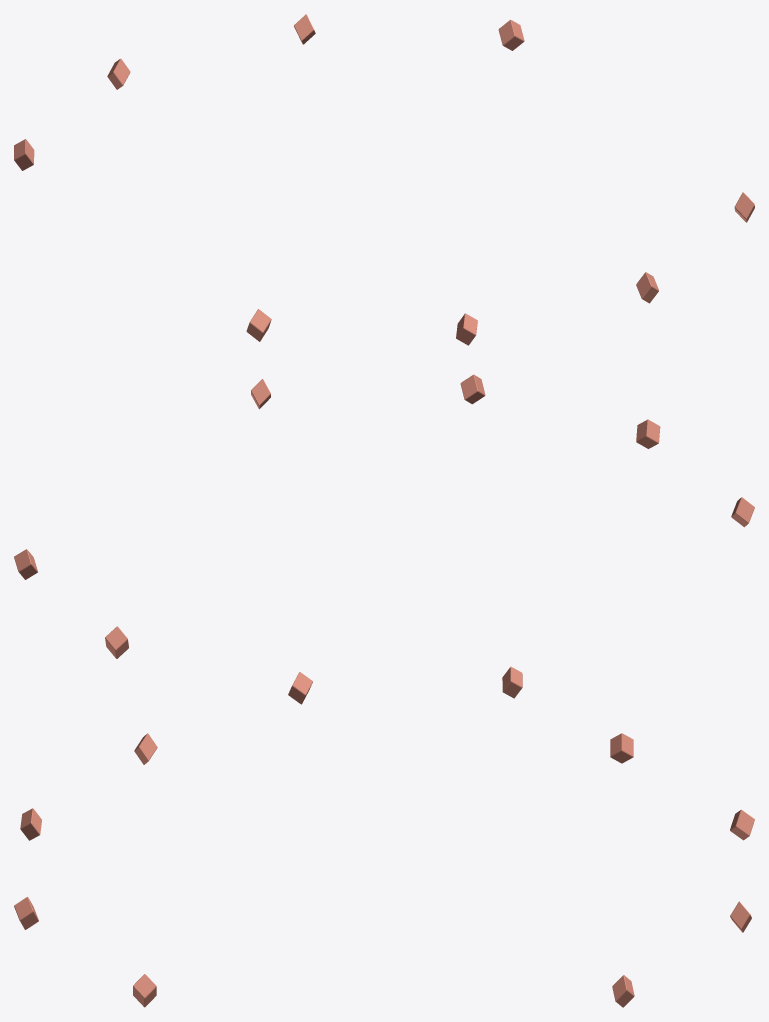
The model's file is Crystals.glb.
3 renders of one model, top to bottom at view 1: azimuth 30°, elevation 25°; view 2: azimuth 150°, elevation 25°; view 3: azimuth 270°, elevation 25°, orthographic. The views are drawn at different scales.
Visible parts, largest first — view 1: Crystals4; view 2: Crystals7; view 3: Crystals1, Crystals5, Crystals7, Crystals2, Crystals6, Crystals4.
Part boxes in pixels (<box>): Crystals4: <box>498,19,524,50</box>; Crystals7: <box>636,419,660,448</box>; Crystals1: <box>610,733,633,763</box>; Crystals5: <box>133,974,156,1007</box>; Crystals7: <box>20,808,41,840</box>; Crystals2: <box>730,809,754,840</box>; Crystals6: <box>14,897,38,929</box>; Crystals4: <box>612,975,634,1007</box>.
Size of what is drawn, in the model's own units: 16.95 by 1 by 20.97.
